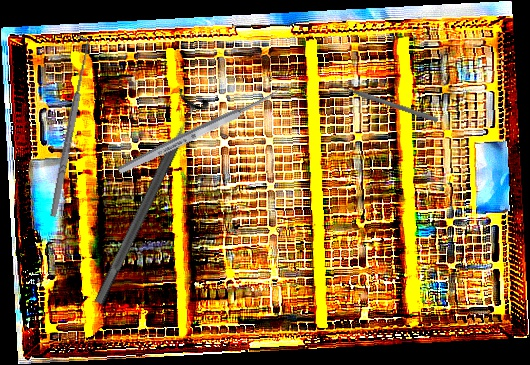Fixation Ring: (81, 87, 212, 311)
Hook Surgical: (41, 33, 95, 220)
Pusher: (327, 79, 440, 124)
Surgical Spoon: (116, 82, 292, 177)
